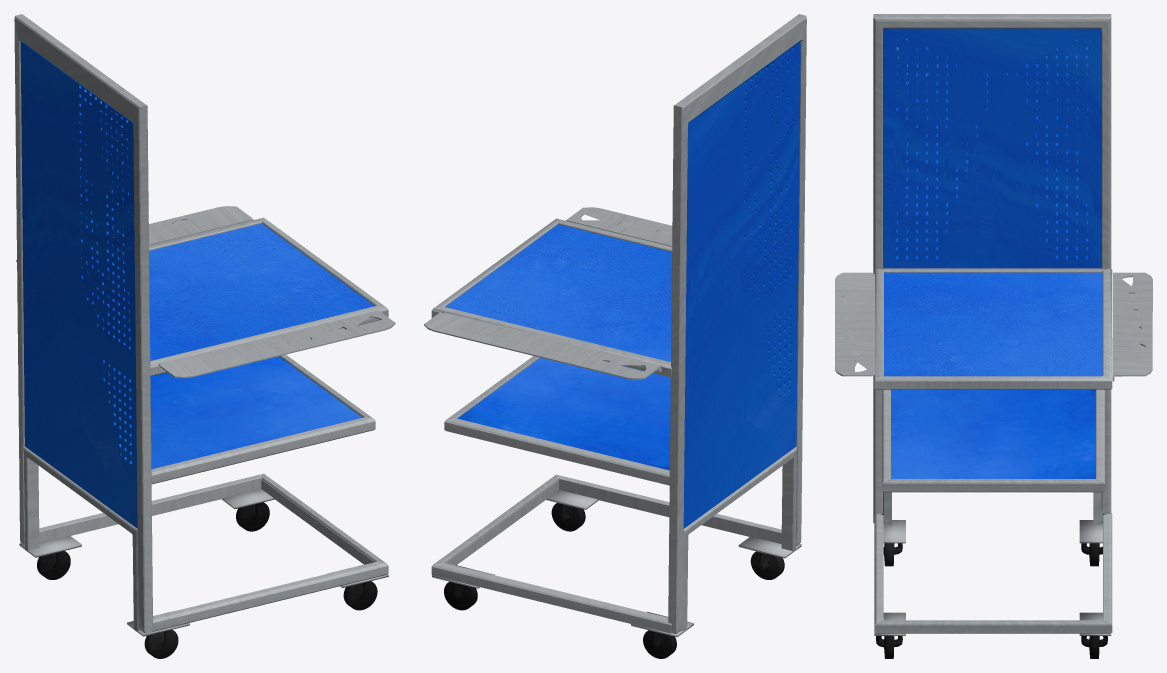
File: ToolTable.fbx
3 renders of one model, left to right at view 1: azimuth 30°, elevation 25°; view 2: azimuth 150°, elevation 25°; view 3: azimuth 270°, elevation 25°, orthographic. The views are drawn at different scales.
Parts seen in each view (by area): view 1: Cube.007, Cube, Cube.001; view 2: Cube.007, Cube, Cube.001; view 3: Cube.007, Cube, Cube.001.
Boxes of the visible parts, box(x1,y1,x2,y2) form: Cube.007: box(14, 14, 388, 658); Cube: box(16, 206, 395, 378); Cube.001: box(150, 354, 375, 484); Cube.007: box(431, 14, 806, 658); Cube: box(424, 207, 672, 379); Cube.001: box(444, 356, 670, 485); Cube.007: box(873, 14, 1112, 658); Cube: box(835, 268, 1152, 389); Cube.001: box(882, 389, 1104, 492).
Size of the model in its own units: 113 by 242 by 130.
